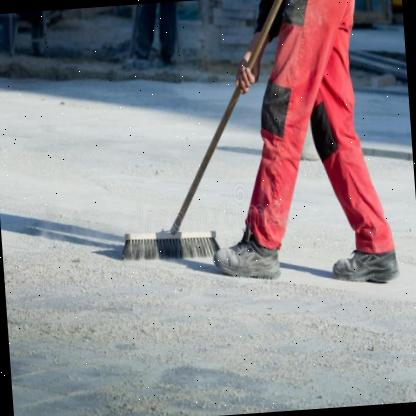bota: (209, 224, 285, 284), (330, 244, 403, 288)
